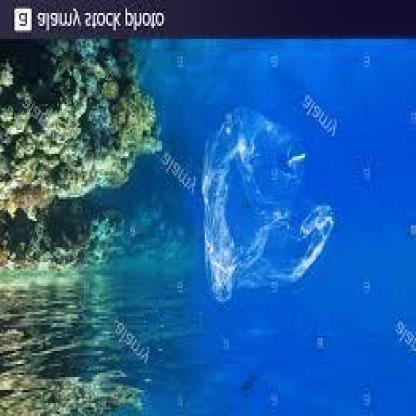pbag: (202, 106, 336, 308)
